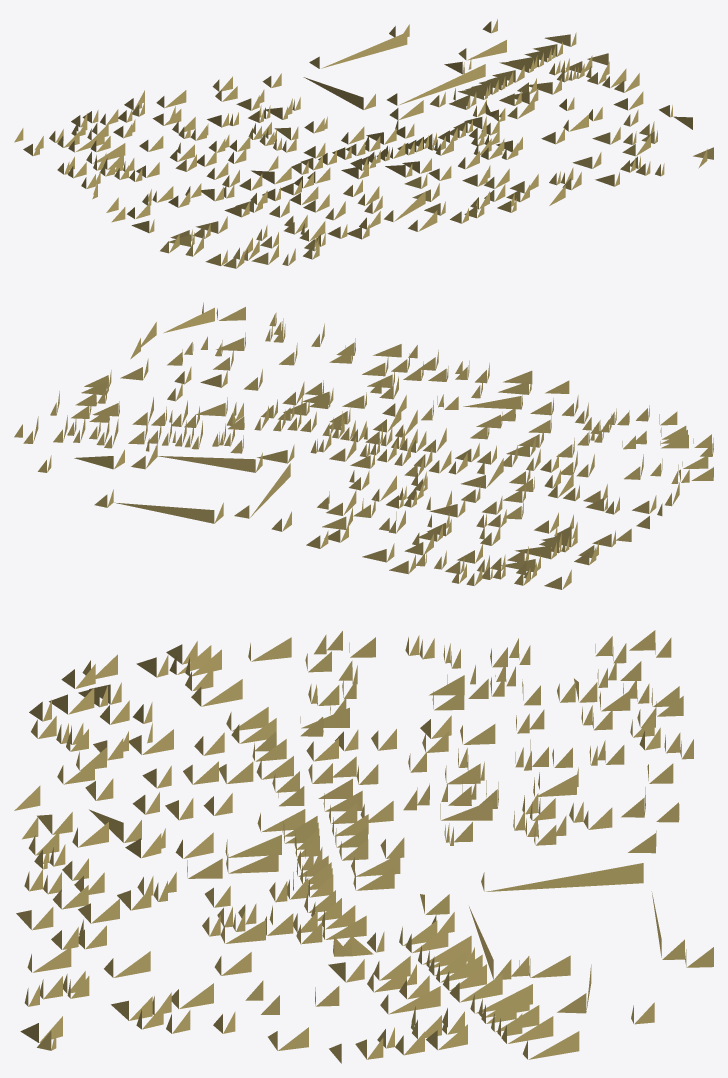
3 renders of one model, top to bottom at view 1: azimuth 30°, elevation 25°; view 2: azimuth 150°, elevation 25°; view 3: azimuth 270°, elevation 25°, orthographic. The views are drawn at different scales.
Bounding box in the file's own units: 332 × 7.5 × 234.
